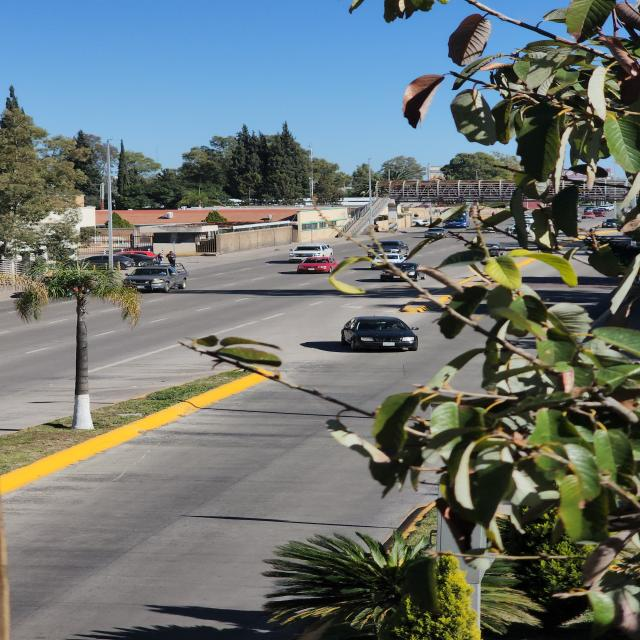Auto: (343, 316, 419, 352), (124, 266, 189, 295), (81, 248, 157, 269), (293, 257, 336, 274), (122, 252, 156, 266)
Peaton: (166, 252, 177, 273)
